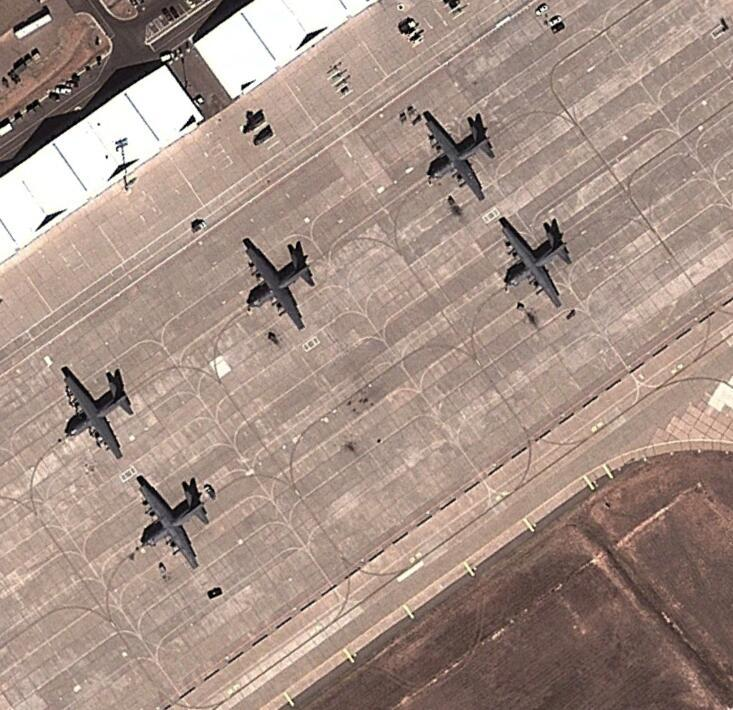A2: (498, 216, 573, 310), (420, 110, 497, 201), (134, 478, 208, 571), (60, 370, 134, 458), (242, 242, 311, 329)
